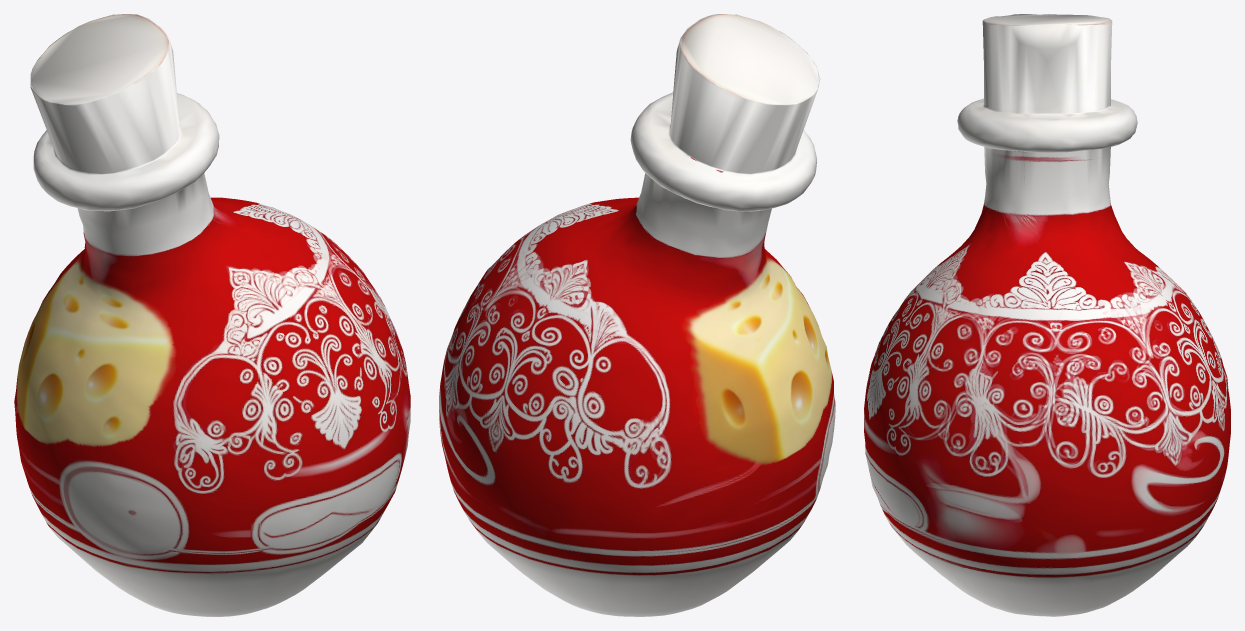
File: red_elixir.glb
3 renders of one model, left to right at view 1: azimuth 30°, elevation 25°; view 2: azimuth 150°, elevation 25°; view 3: azimuth 270°, elevation 25°, orthographic. The views are drawn at different scales.
Visible parts, largest first — view 1: Mesh_0; view 2: Mesh_0; view 3: Mesh_0.
Boxes of the visible parts, <box> form: Mesh_0: <box>14,14,410,616</box>; Mesh_0: <box>439,14,835,616</box>; Mesh_0: <box>864,14,1230,616</box>.
Bounding box in the file's own units: 0.0626 × 0.1 × 0.0622.
1 material, 1 textured.
